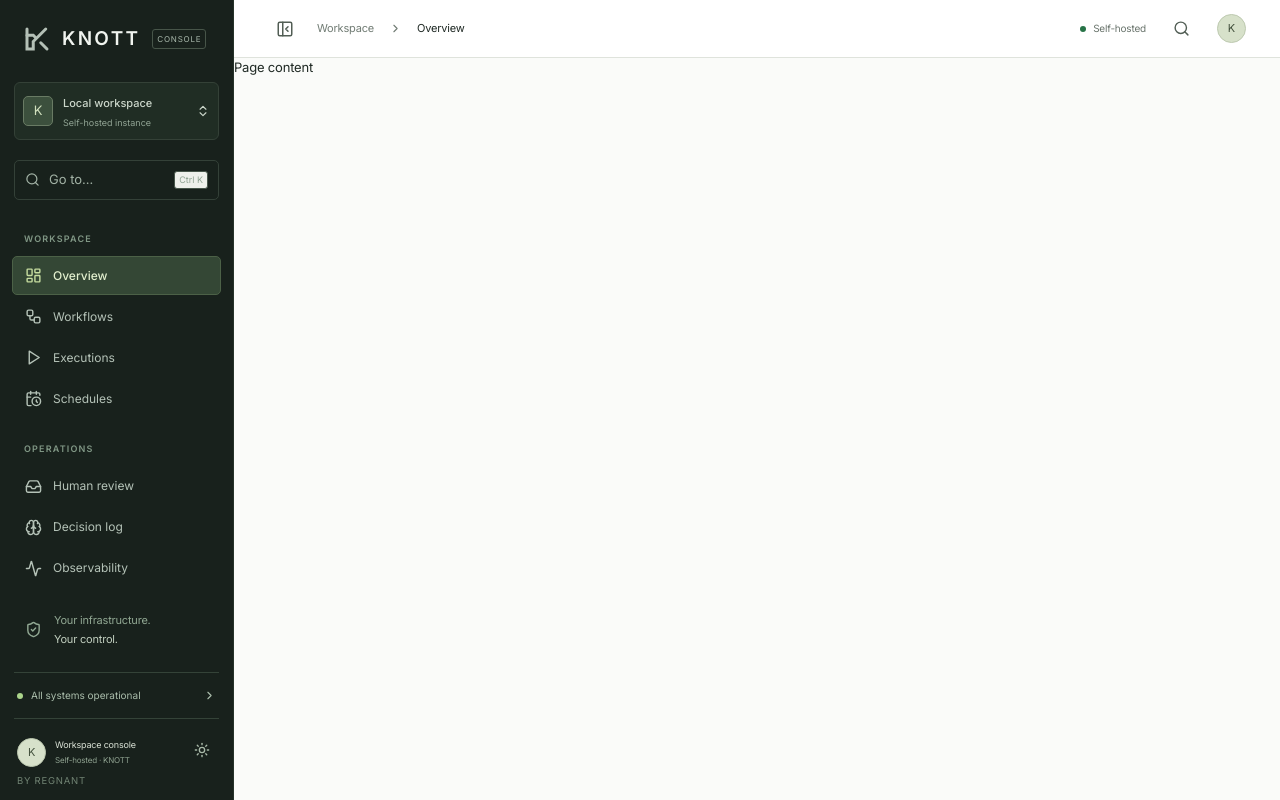
Test: Workspace navigation › opens command search with the keyboard, filters pages, and navigates with Enter
Press k
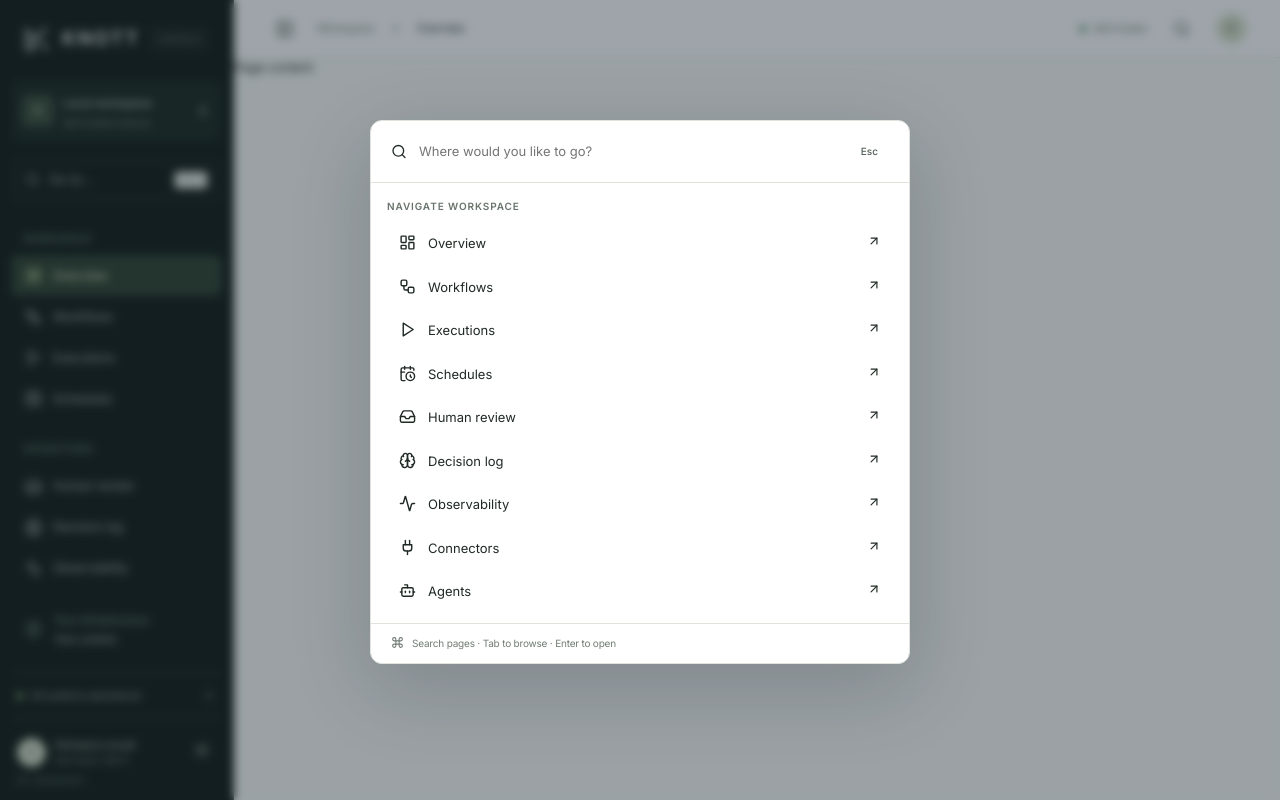
In the field named "Search pages": (628, 152) [419,142,838,161], type "connector"
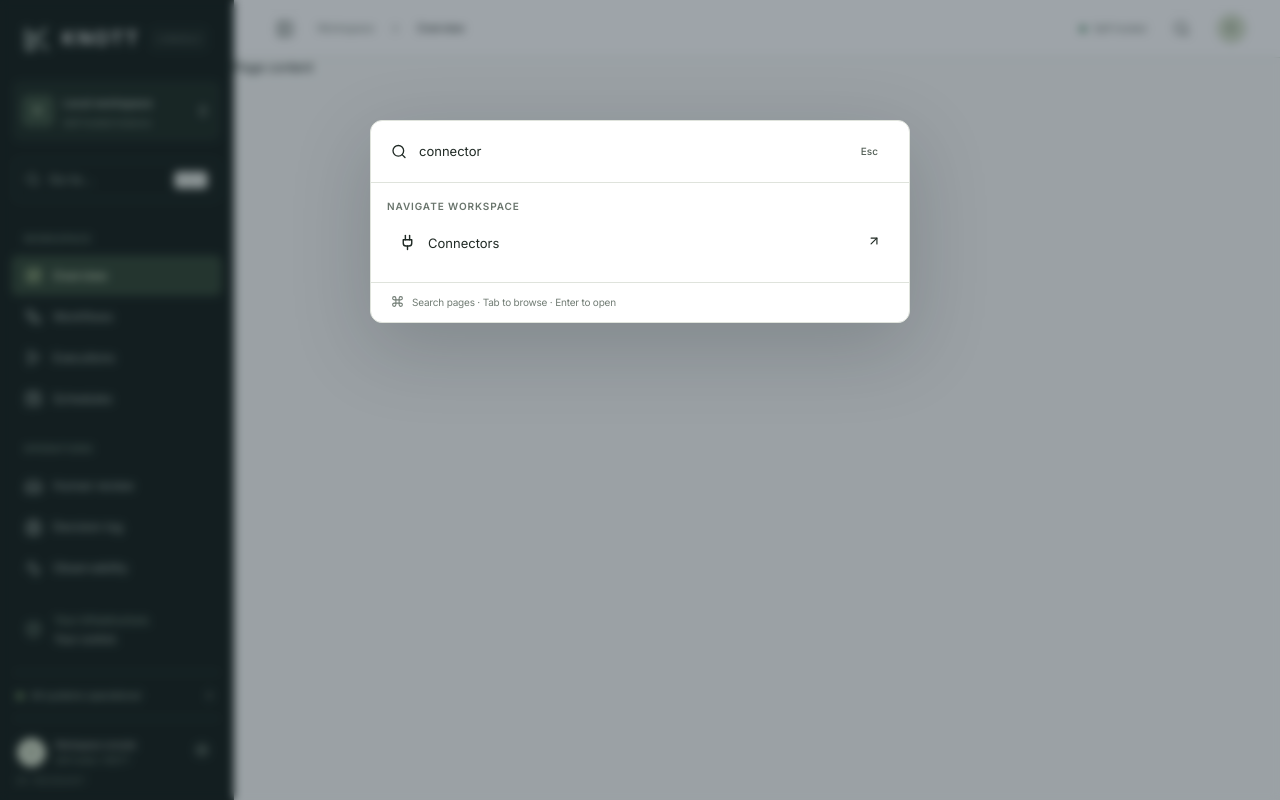
Press Enter in the field named "Search pages", box [419,142,838,161]
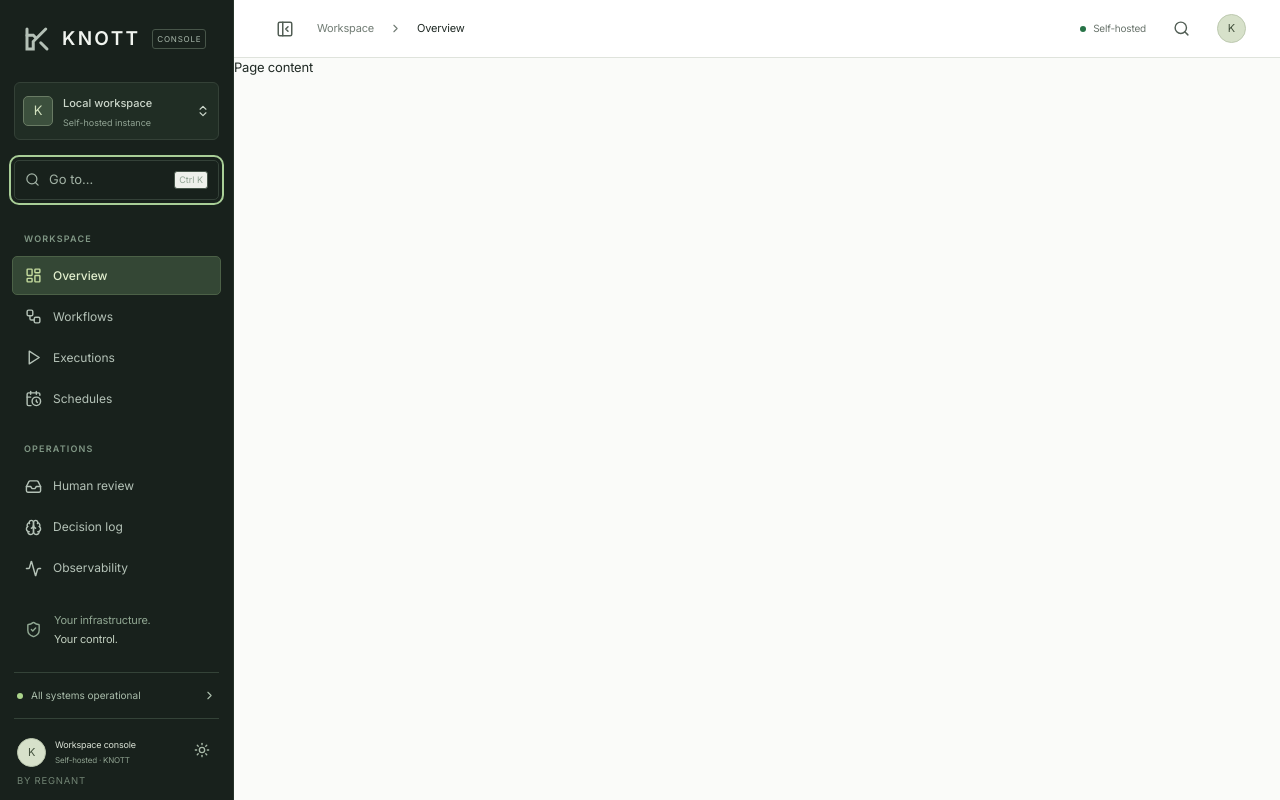
Result: the dialog is gone
